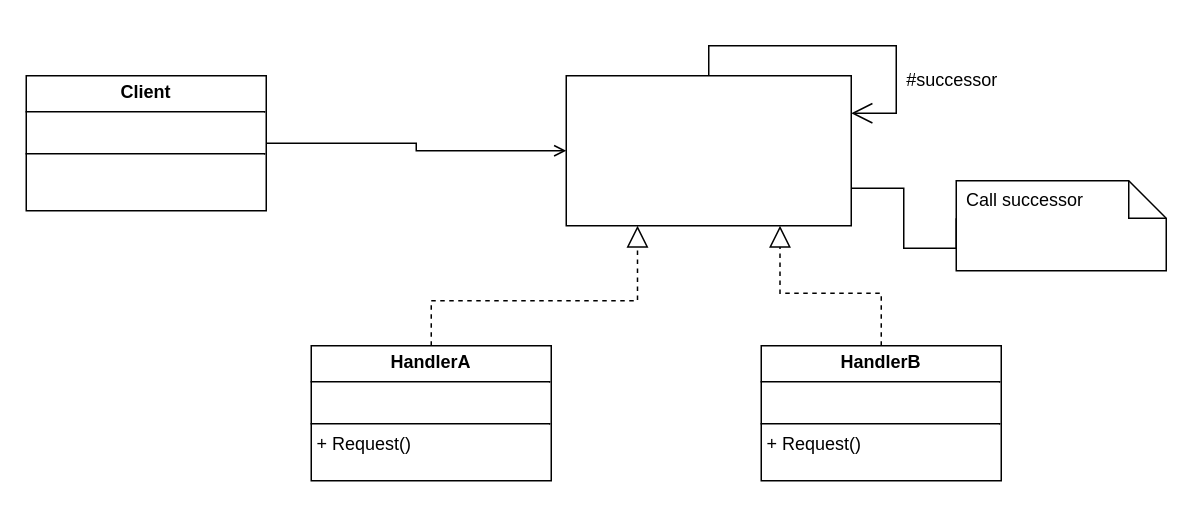
Some shapes in this 1193 by 507 pixel diagram are drawn without their labels. Here are the shapes that lost their labels. From the top down, the box of each, then its label:
(565, 74, 851, 226): <<Interface>> IHandler + Request()
(955, 179, 1166, 271): if necessory
